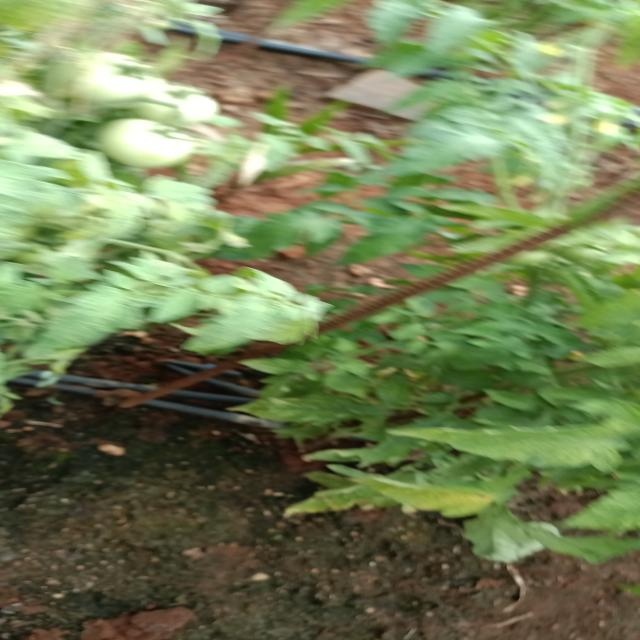Healthy Leaf: (338, 475, 509, 515)
